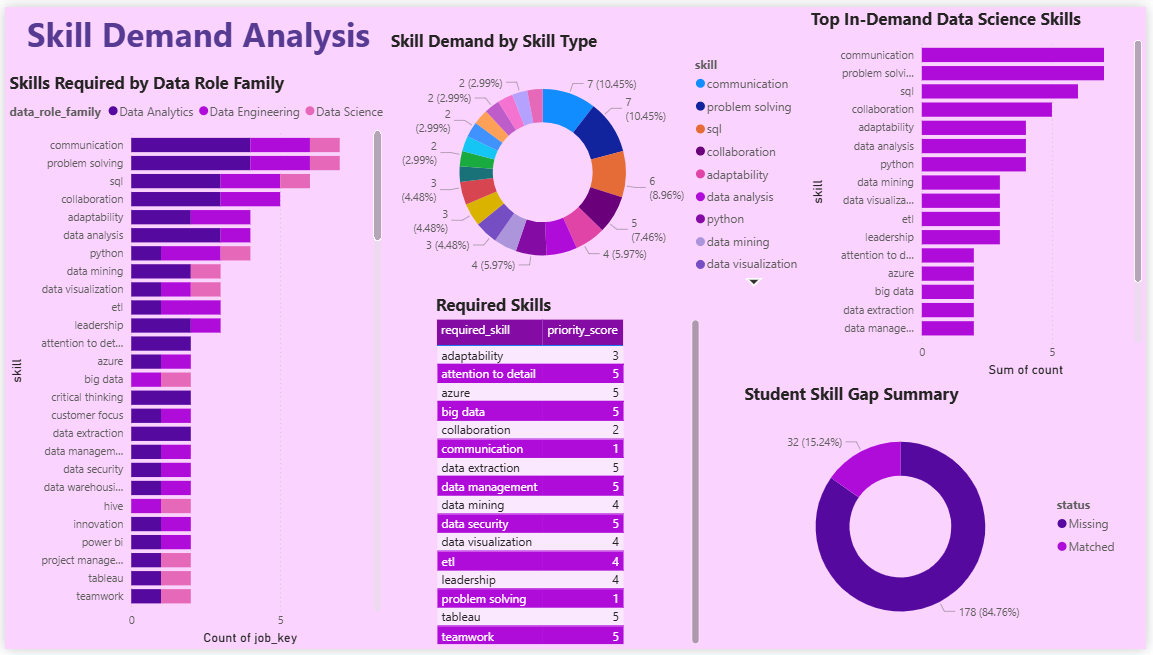

What the dashboard file says about the page in this screenshot:
{"tool":"powerbi","page":{"name":"Skill Demand Analysis","canvas":[1280,720],"ordinal":1},"visuals":[{"type":"textbox","box":[20,0,424.3,85.7],"z":0},{"type":"clusteredBarChart","title":"Top In-Demand Data Science Skills","fields":{"Category":["TopDataScienceSkills.skill"],"Y":["Sum(TopDataScienceSkills.count)"]},"box":[898.6,0,381.4,420],"z":1000},{"type":"donutChart","title":"Skill Demand by Skill Type","fields":{"Category":["TopDataScienceSkills.skill"],"Y":["Sum(TopDataScienceSkills.count)"]},"box":[427.1,25.7,481.4,295.7],"z":2000},{"type":"barChart","title":"Skills Required by Data Role Family","fields":{"Category":["DataScienceJobSkills.skill"],"Y":["CountNonNull(DataScienceJobSkills.job_key)"],"Series":["DataScienceJobSkills.data_role_family"]},"box":[0,71.4,427.1,648.6],"z":3000},{"type":"donutChart","title":"Student Skill Gap Summary","fields":{"Category":["SkillGap.status"],"Y":["Sum(SkillGap.skill_rank)"]},"box":[824.3,420,434.3,300],"z":4000},{"type":"tableEx","title":"Required Skills","fields":{"Values":["Recommendations.required_skill","Recommendations.priority_score"]},"box":[478.6,321.4,305.7,398.6],"z":5000}]}

Visuals, with their boxes in screenshot pixels (x1, y1, x2, y2), scaled from the page's 1280x720 canvas onto the 1153x655 screenshot:
textbox: detection(18, 0, 400, 78)
"Top In-Demand Data Science Skills" clusteredBarChart: detection(809, 0, 1152, 382)
"Skill Demand by Skill Type" donutChart: detection(385, 23, 818, 292)
"Skills Required by Data Role Family" barChart: detection(0, 65, 385, 654)
"Student Skill Gap Summary" donutChart: detection(743, 382, 1134, 654)
"Required Skills" tableEx: detection(431, 292, 706, 654)
